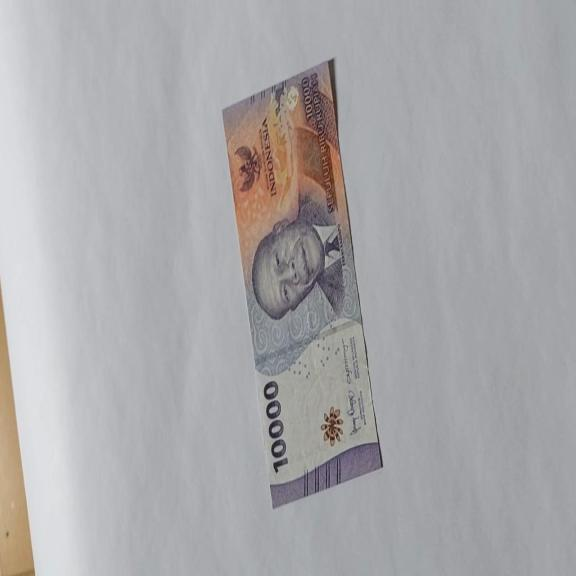Kertas: (220, 57, 384, 508)
